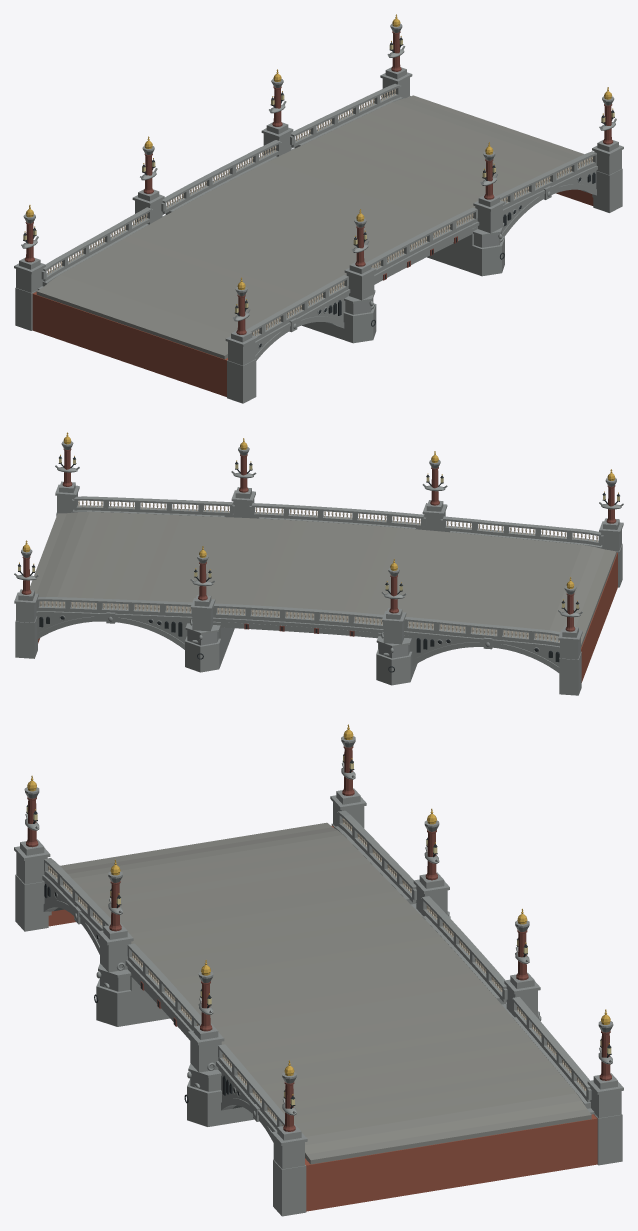
The model's file is blauwbrug.glb.
3 renders of one model, top to bottom at view 1: azimuth 30°, elevation 25°; view 2: azimuth 150°, elevation 25°; view 3: azimuth 270°, elevation 25°, orthographic. The views are drawn at different scales.
Parts seen in each view (by area): view 1: blauwbrug; view 2: blauwbrug; view 3: blauwbrug.
Boxes of the visible parts, x1,y1,x2,y2 form: blauwbrug: (14,14,623,403); blauwbrug: (14,432,623,695); blauwbrug: (14,724,623,1216).
Bounding box in the file's own units: 54.72 × 11.42 × 40.17.
